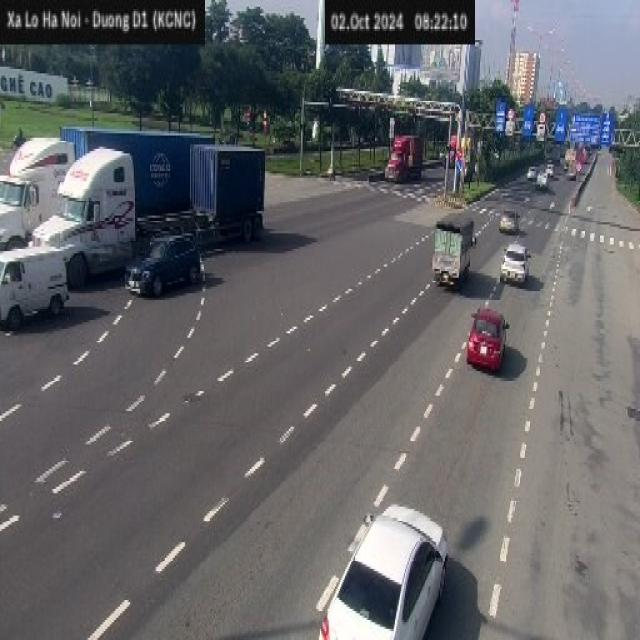car: (320, 500, 445, 640), (0, 252, 71, 330), (126, 242, 210, 302), (469, 301, 510, 374), (501, 239, 534, 282), (500, 200, 522, 237), (541, 167, 555, 202), (544, 158, 560, 184), (528, 162, 540, 186)
container-truck: (32, 148, 272, 258), (0, 125, 218, 239), (381, 123, 432, 188)
truck: (432, 216, 485, 294)
